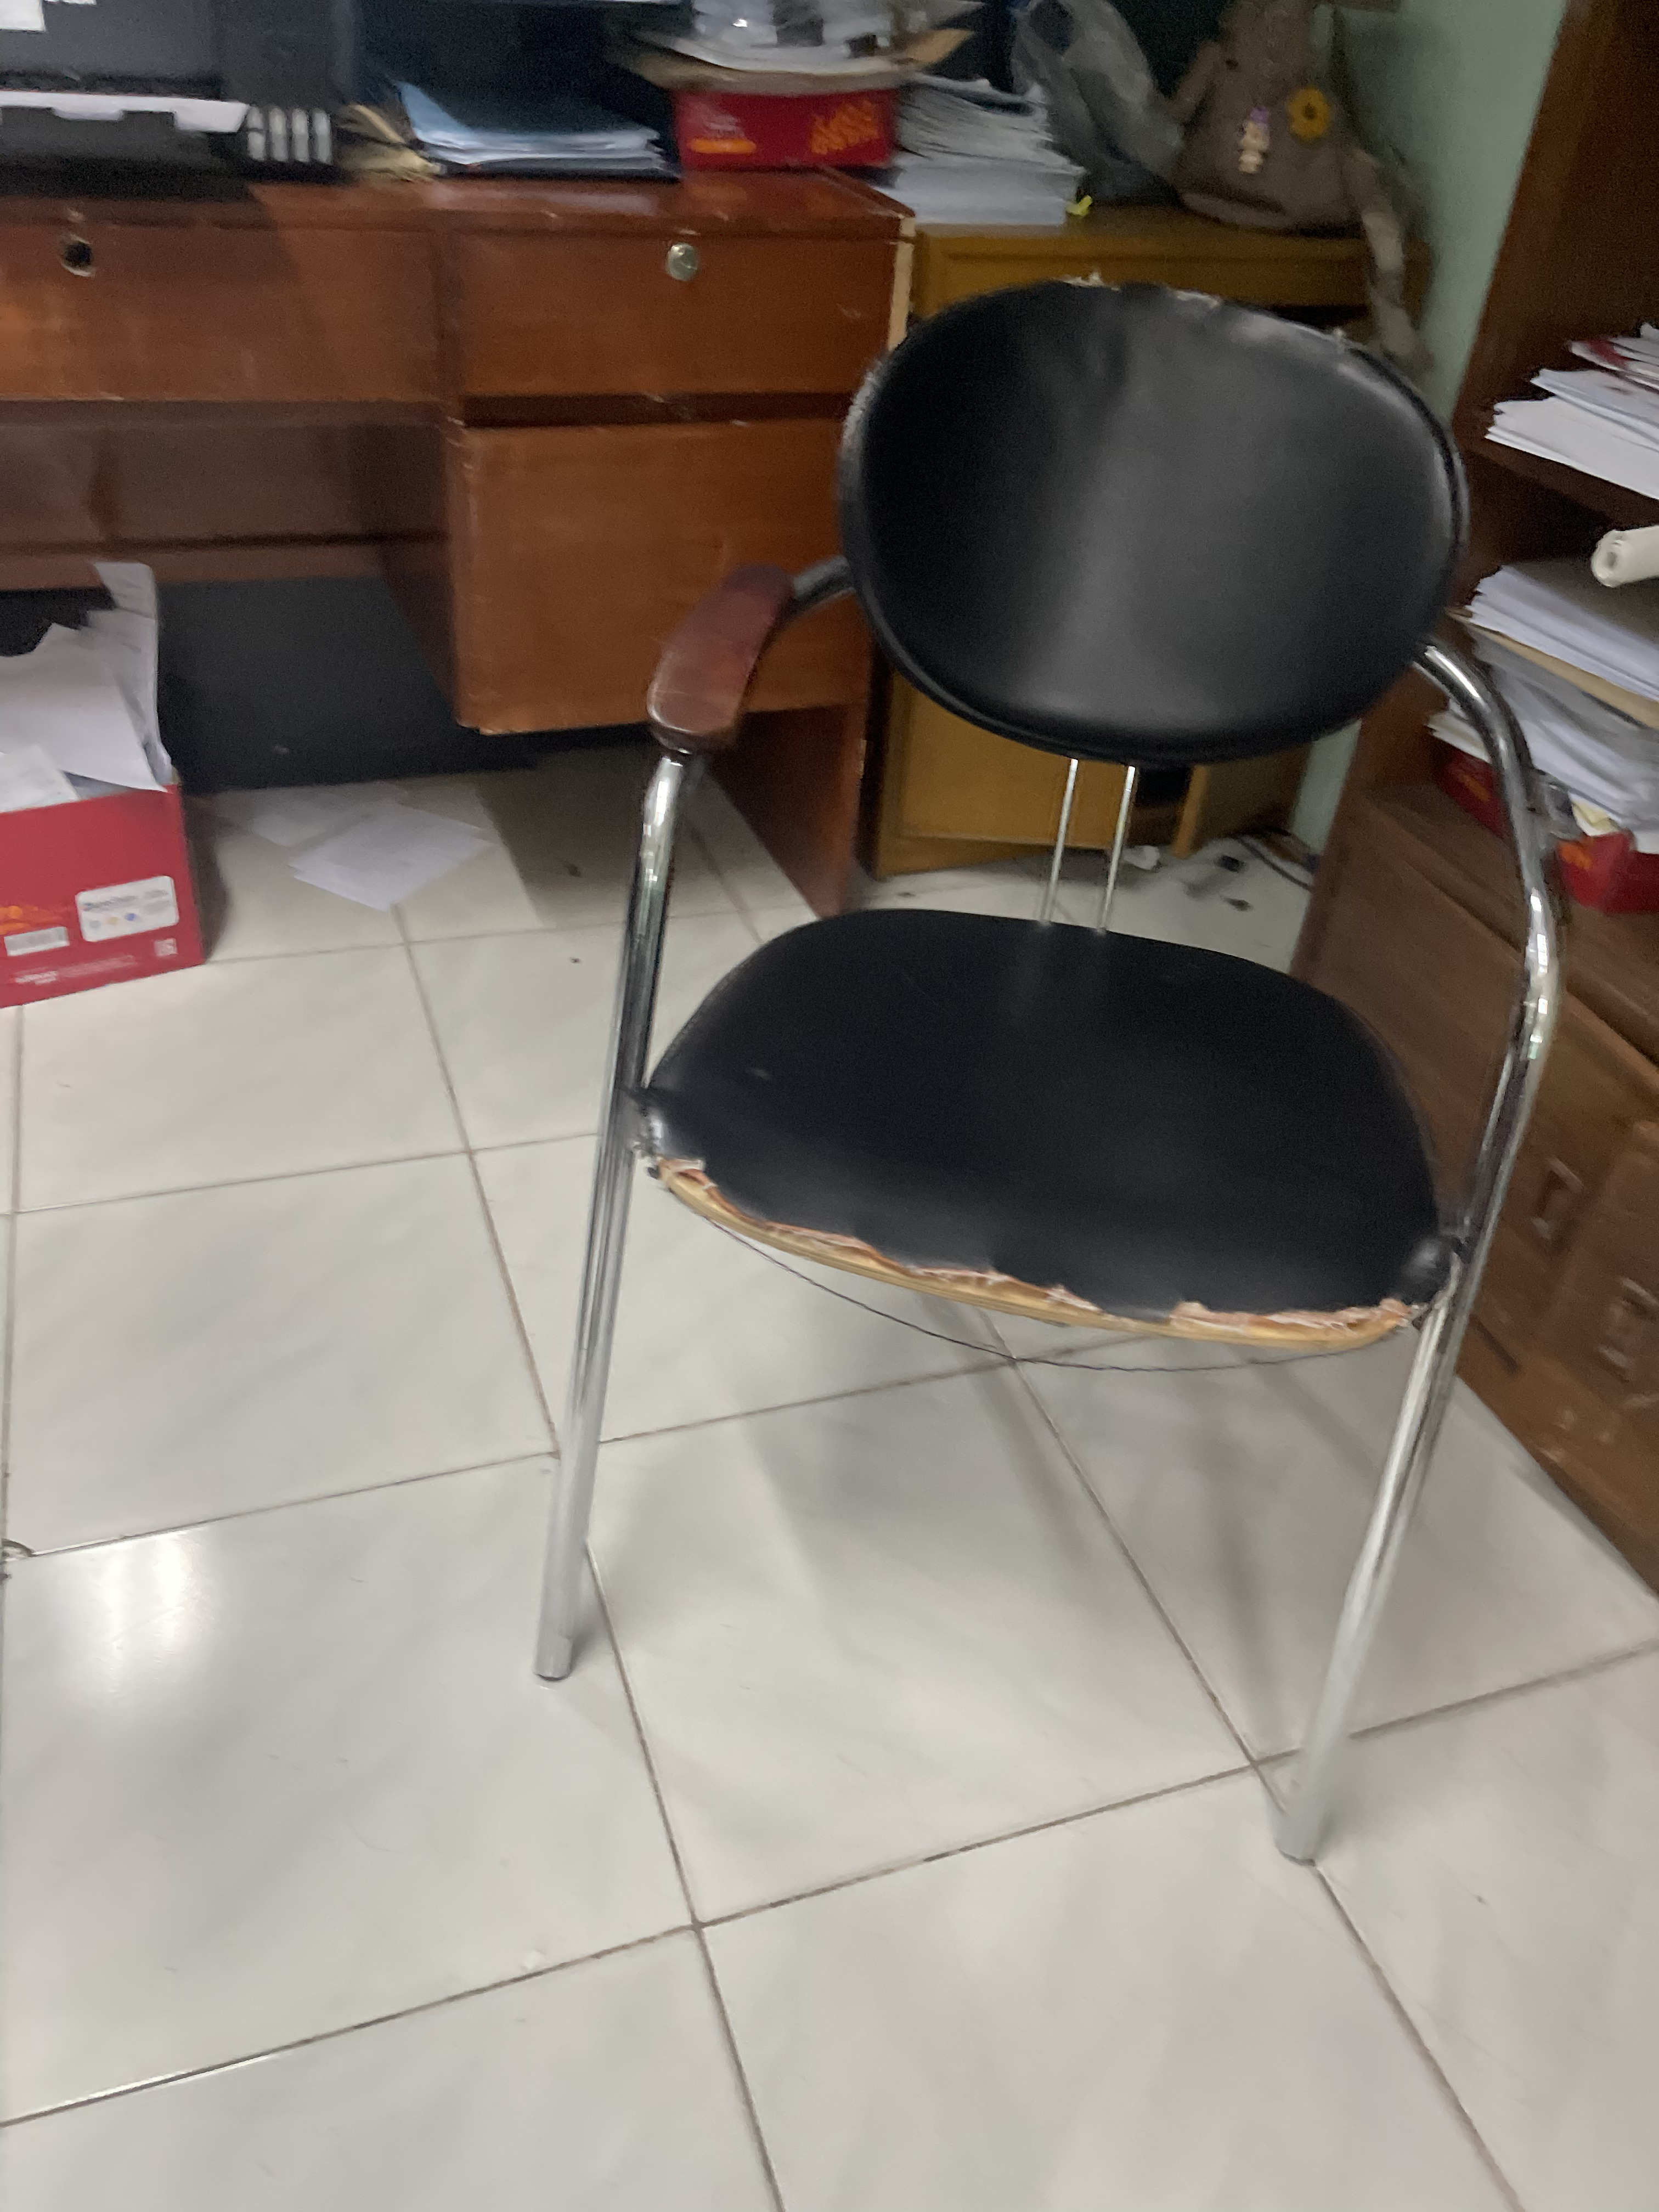chair1: (533, 275, 1560, 1918)
